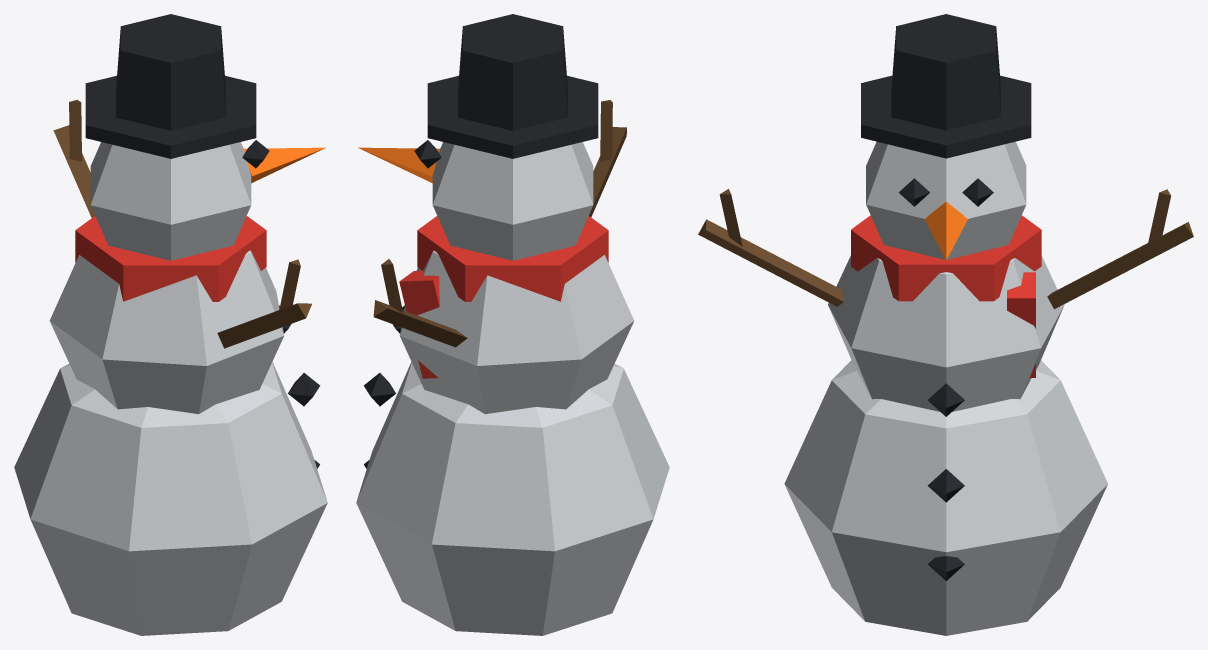
Rendered from snowman.glb.
The picture shows the model from 3 angles, left to right: view 1: azimuth 30°, elevation 25°; view 2: azimuth 150°, elevation 25°; view 3: azimuth 270°, elevation 25°; orthographic projection.
Parts seen in each view (by area): view 1: snowman; view 2: snowman; view 3: snowman.
Boxes of the visible parts, x1,y1,x2,y2 form: snowman: (14, 14, 327, 635); snowman: (356, 14, 669, 635); snowman: (698, 14, 1193, 635).
Size of the model in its own units: 0.0992 by 0.19 by 0.1442.
